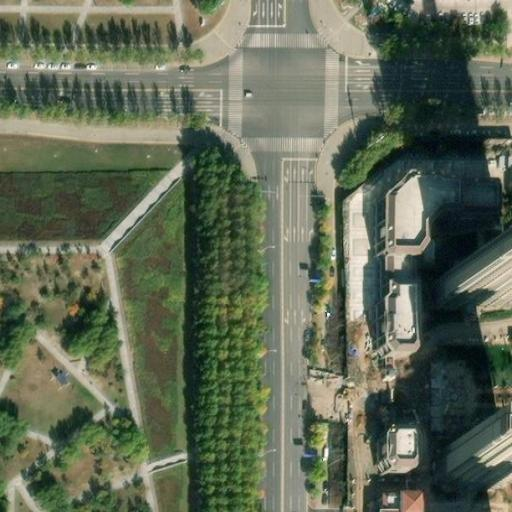building: (377, 163, 490, 345), (446, 252, 512, 298), (449, 442, 512, 484), (386, 423, 420, 469), (380, 492, 421, 512)
